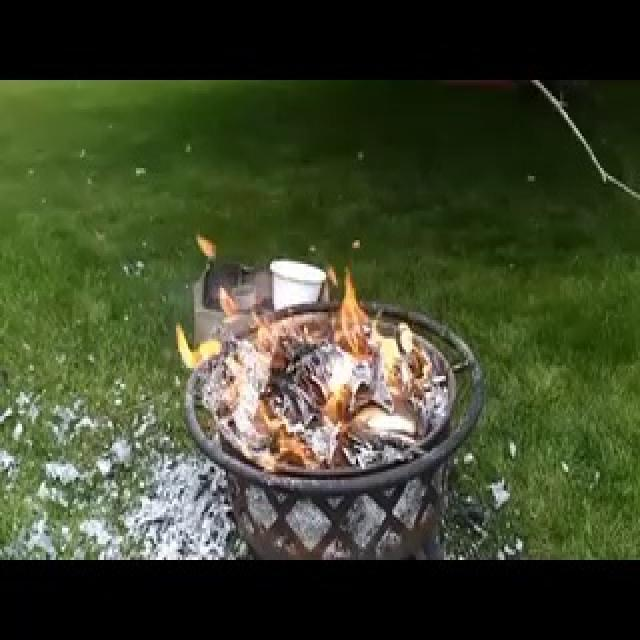fire: (177, 190, 439, 477)
